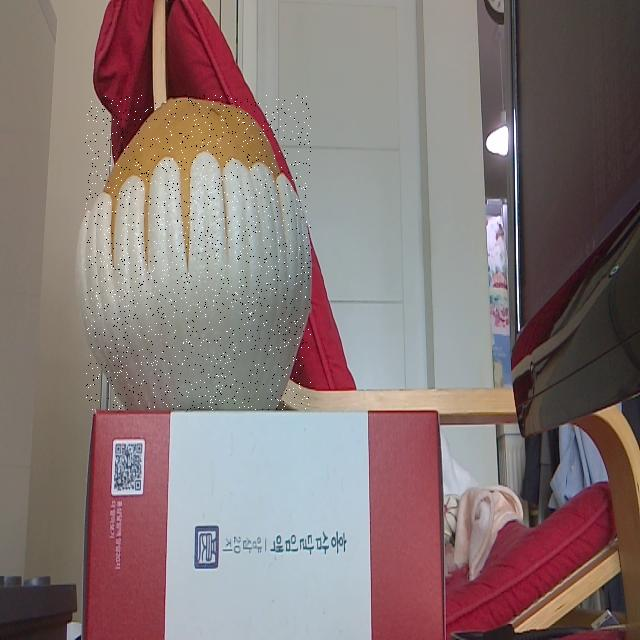pear: (85, 95, 311, 410)
